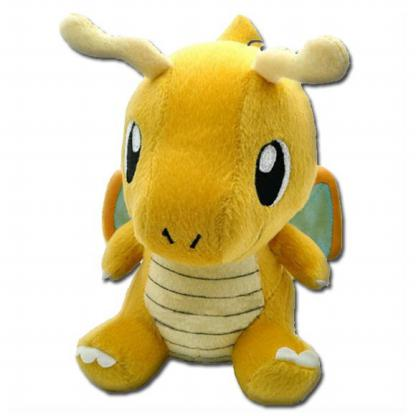Dragonite: (44, 1, 369, 415)
